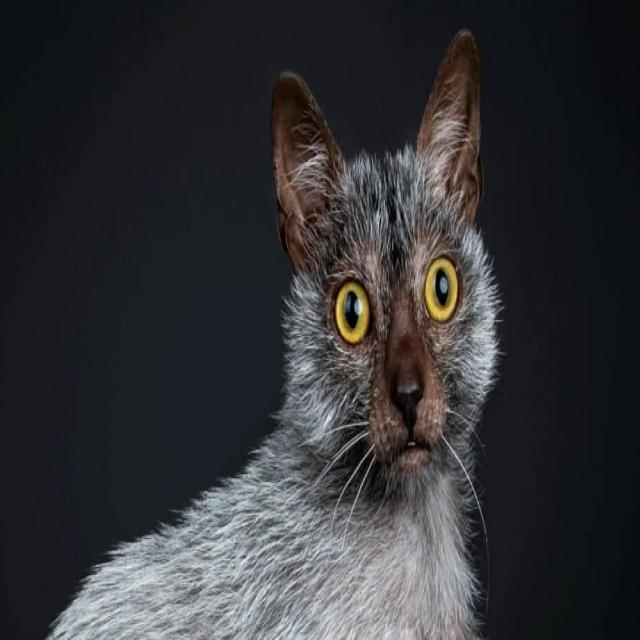Lykoi: (23, 17, 506, 640)
